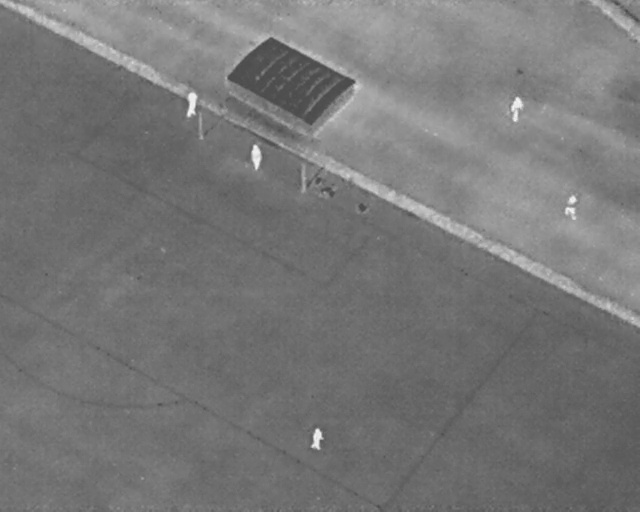Person: (561, 189, 581, 221), (247, 141, 264, 171), (508, 94, 524, 122), (308, 425, 325, 451), (184, 90, 199, 117)
